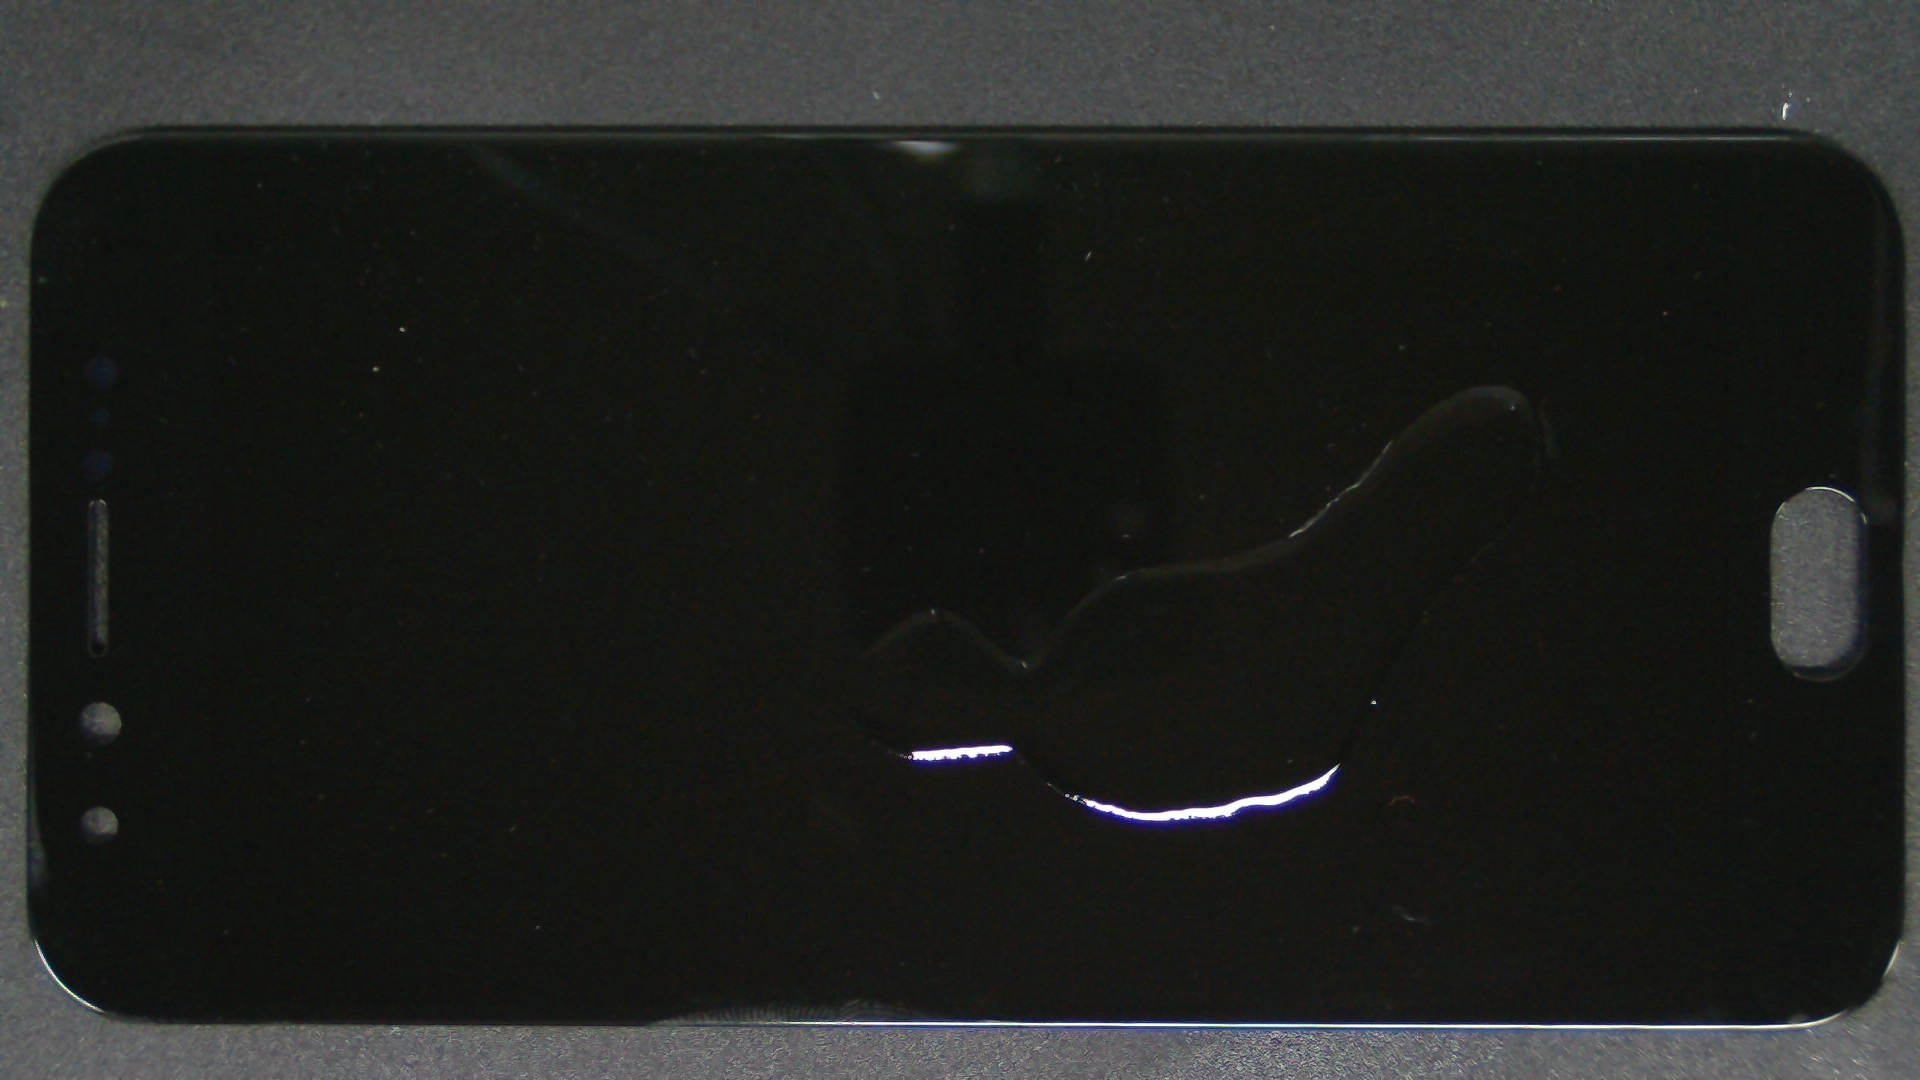oil: (744, 193, 1920, 582)
